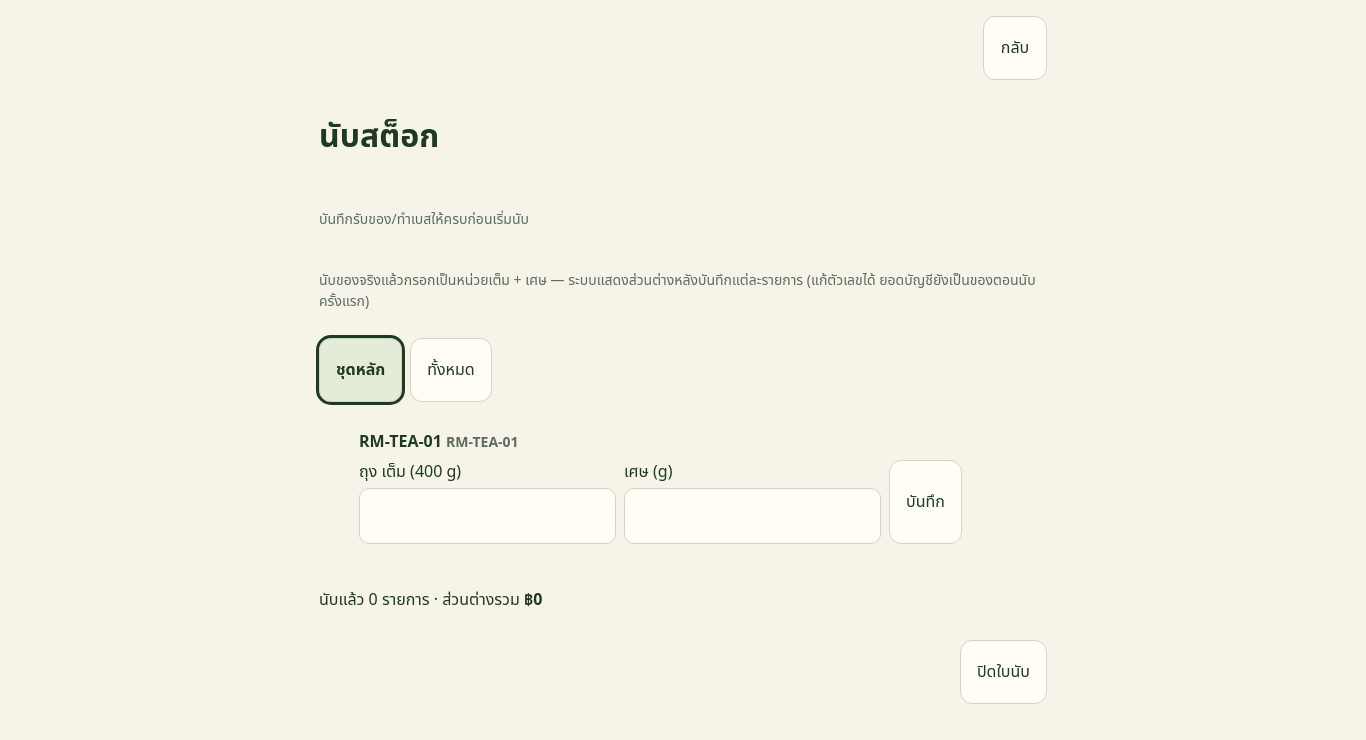
CountScreen — a failed save keeps what was typed and the edit open; a later success clears the banner (review m-1 · I-3) › keeps the typed units/rest and stays in edit mode after a refusal, then retrying with the same numbers succeeds and clears the banner
This screenshot has width=1366, height=740.
Type "2" into the field with test id "count-units-RM-TEA-01" at (488,516), box [359,488,616,544]
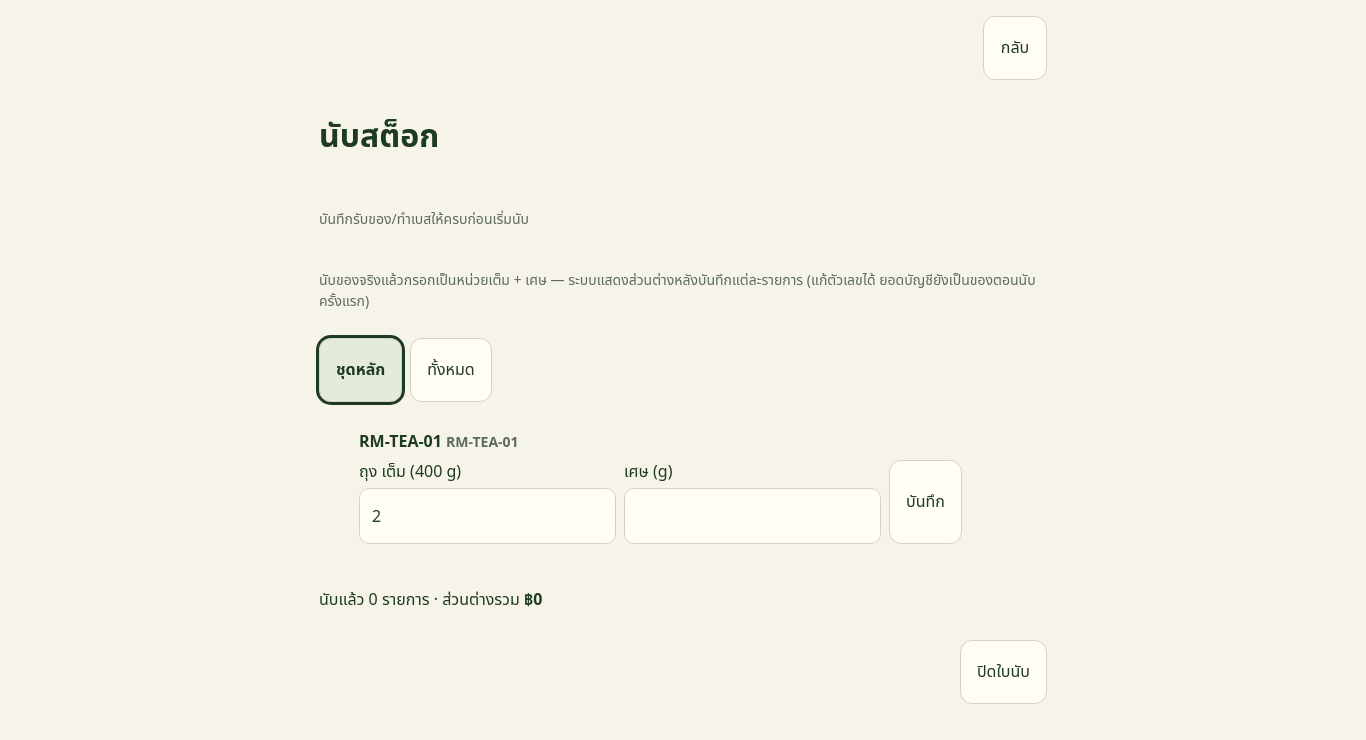
Type "50" into the field with test id "count-rest-RM-TEA-01" at (752,516), box [624,488,881,544]
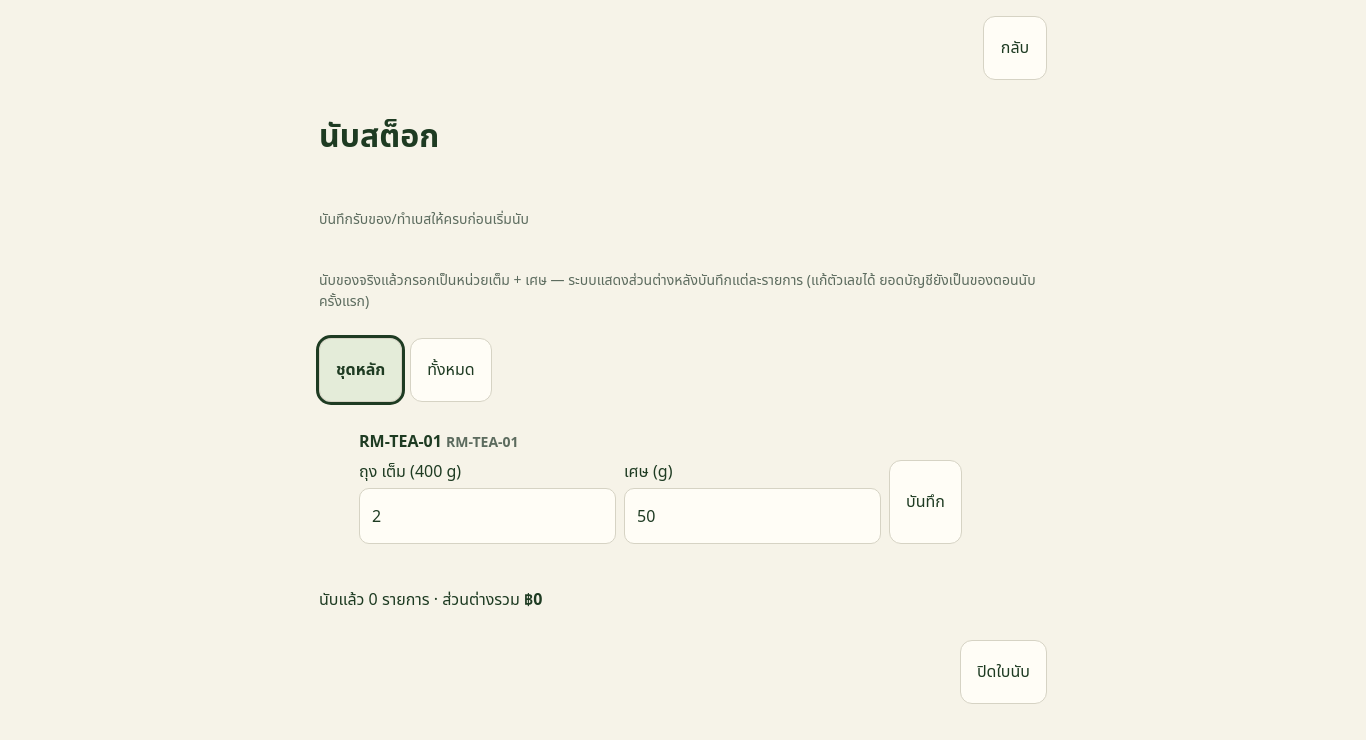
Click the button with test id "count-save-RM-TEA-01" at (925,502), box [889,460,962,544]
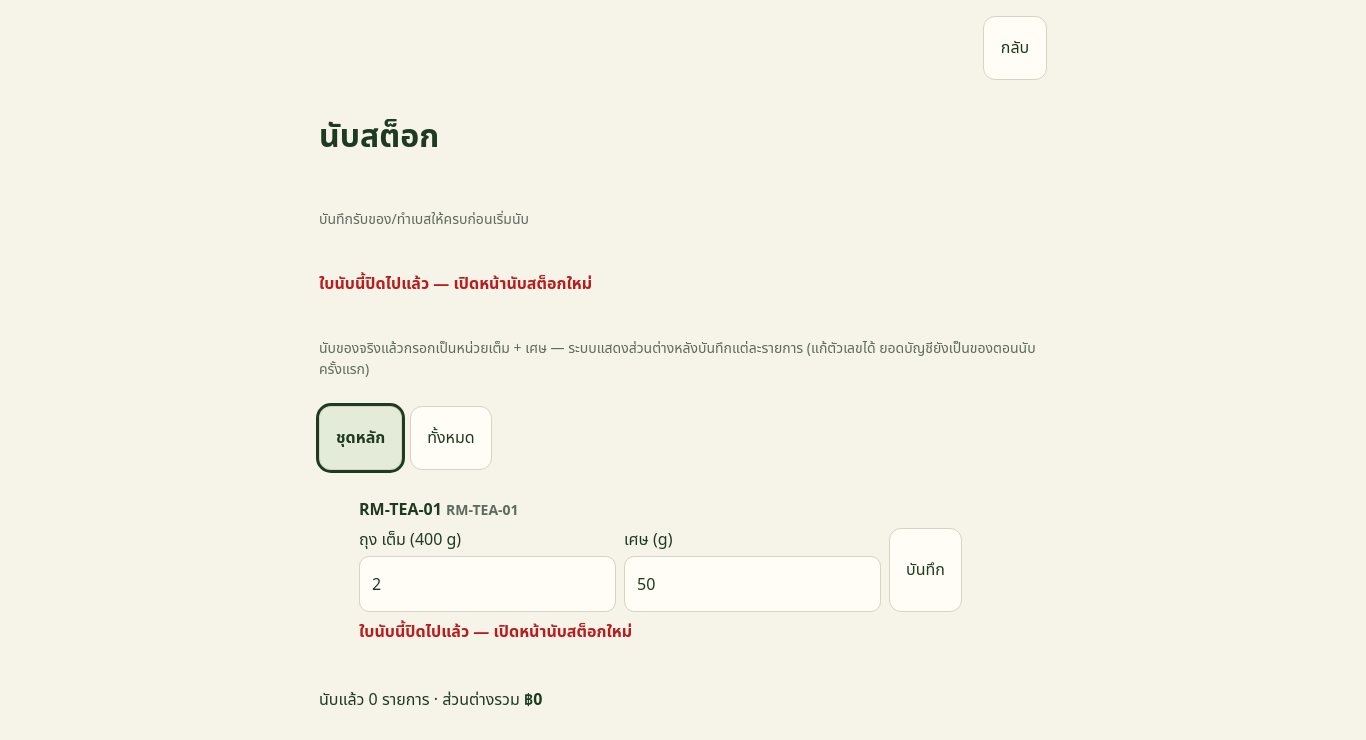
Click the button with test id "count-save-RM-TEA-01" at (925,570), box [889,528,962,612]
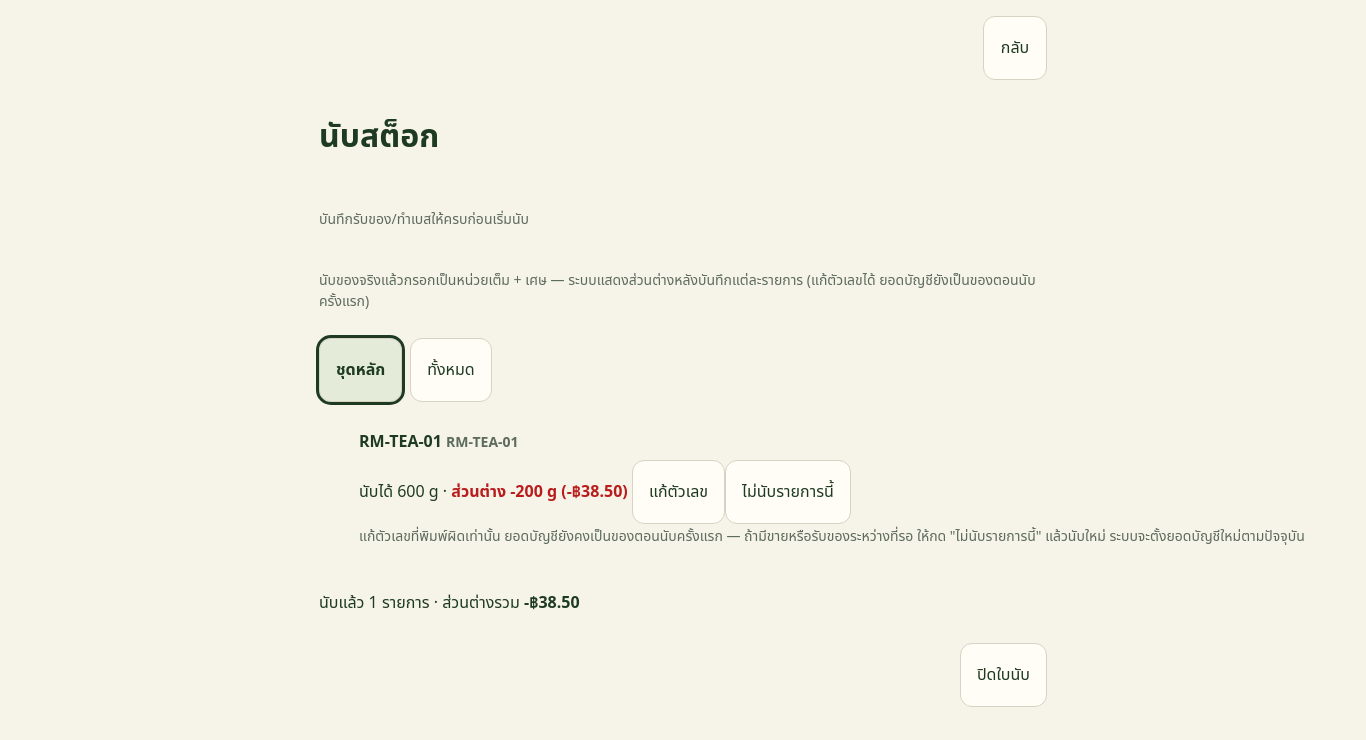
Now the text "นับได้ 600 g" is shown, box [359,480,439,502]
Now the message "ใบนับนี้ปิดไปแล้ว — เปิดหน้านับสต็อกใหม่" is gone
